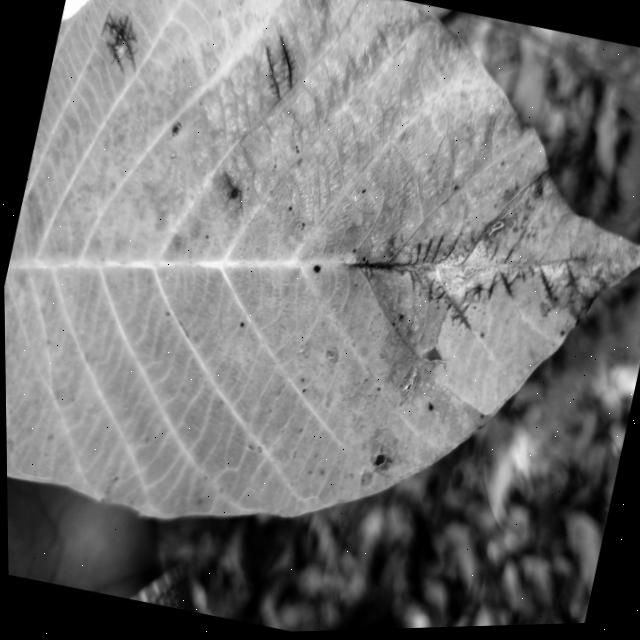Colletotrichum: (170, 122, 181, 140), (311, 265, 320, 274)
Corynespora: (346, 220, 453, 302), (93, 9, 147, 76), (267, 33, 304, 94), (254, 47, 291, 106), (430, 287, 478, 332), (213, 169, 253, 222), (532, 273, 560, 306), (558, 262, 583, 294), (495, 274, 516, 297)
Leaf-Blight: (392, 143, 640, 346)
